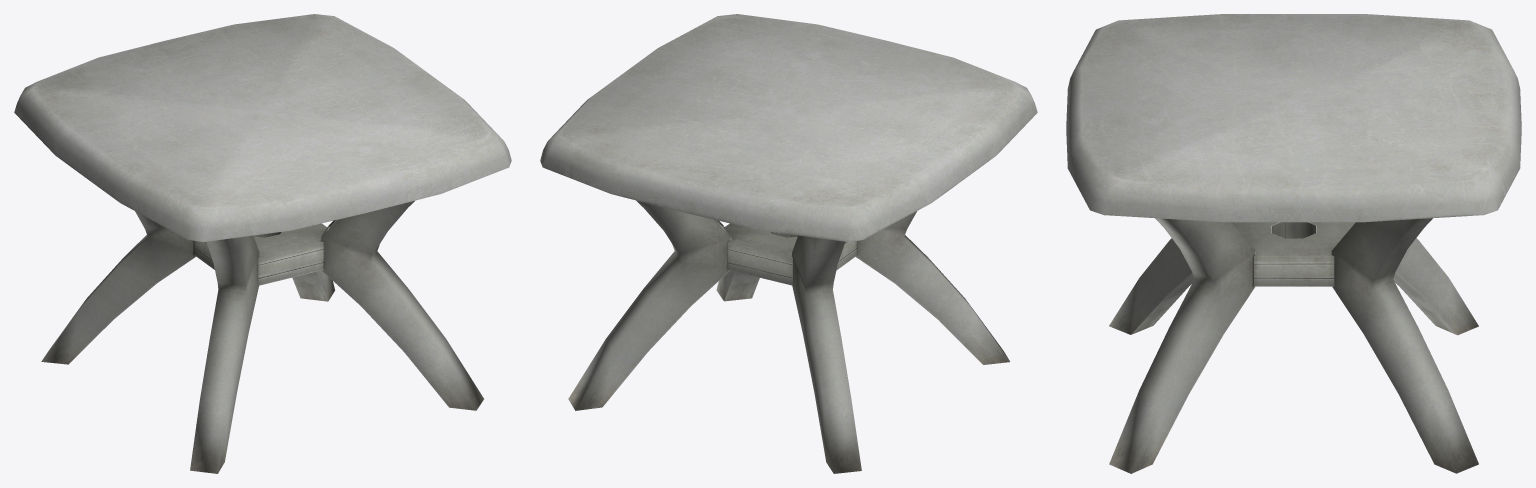
The model's file is table_small.dae.
3 views of the same model, side by side, from view 1: azimuth 30°, elevation 25°; view 2: azimuth 150°, elevation 25°; view 3: azimuth 270°, elevation 25° (orthographic). The views are drawn at different scales.
Parts seen in each view (by area): view 1: table_small; view 2: table_small; view 3: table_small.
Part boxes in pixels (<box>): table_small: <box>14,14,511,473</box>; table_small: <box>540,14,1037,473</box>; table_small: <box>1066,14,1521,473</box>.
Bounding box in the file's own units: 0.8158 × 0.5983 × 0.8396.
